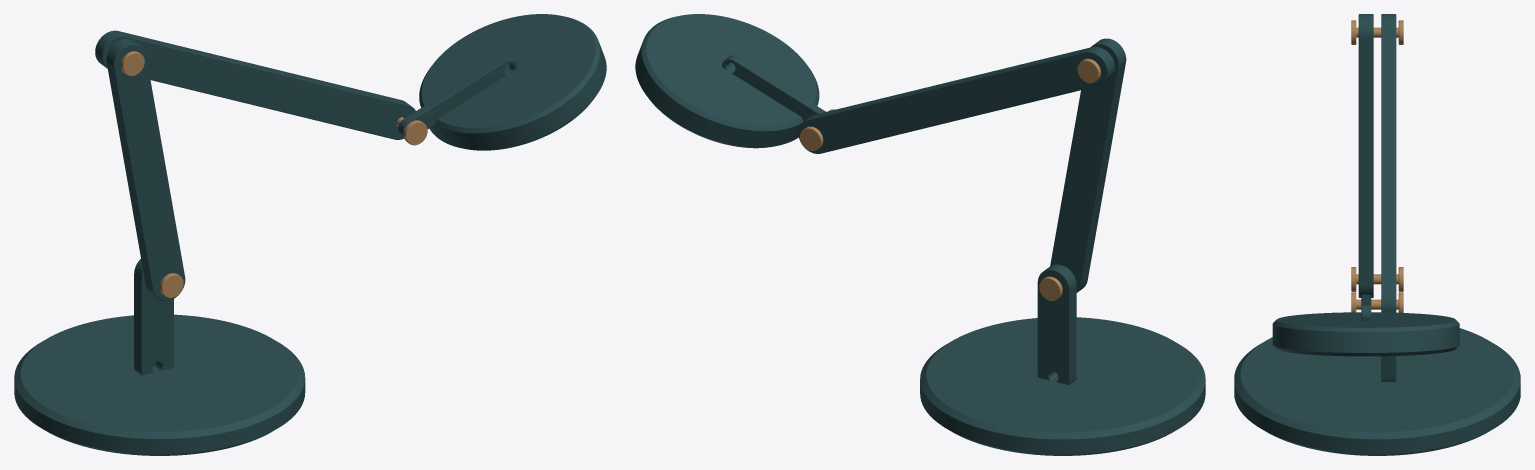
3 renders of one model, left to right at view 1: azimuth 30°, elevation 25°; view 2: azimuth 150°, elevation 25°; view 3: azimuth 270°, elevation 25°, orthographic.
Visible parts, largest first — view 1: Base body, Head housing, Upper arm, Lower arm, Fixed upright, Head neck; view 2: Base body, Head housing, Upper arm, Lower arm, Fixed upright, Head neck; view 3: Base body, Head housing, Upper arm, Lower arm, Fixed upright.
Boxes of the visible parts, left/top/right/bottom form: Base body: left=14, top=314, right=305, bottom=455; Head housing: left=419, top=14, right=606, bottom=150; Upper arm: left=95, top=30, right=415, bottom=139; Lower arm: left=106, top=39, right=185, bottom=301; Fixed upright: left=134, top=259, right=173, bottom=375; Head neck: left=398, top=56, right=517, bottom=136; Base body: left=920, top=317, right=1205, bottom=455; Head housing: left=635, top=14, right=819, bottom=148; Upper arm: left=798, top=46, right=1114, bottom=153; Lower arm: left=1050, top=38, right=1126, bottom=292; Fixed upright: left=1037, top=264, right=1076, bottom=384; Head neck: left=722, top=55, right=825, bottom=121; Base body: left=1234, top=328, right=1520, bottom=455; Head housing: left=1272, top=312, right=1459, bottom=356; Upper arm: left=1381, top=14, right=1396, bottom=312; Lower arm: left=1358, top=14, right=1373, bottom=297; Fixed upright: left=1381, top=356, right=1396, bottom=381.
Size of the model in its own units: 0.5057 by 0.3269 by 0.23.
